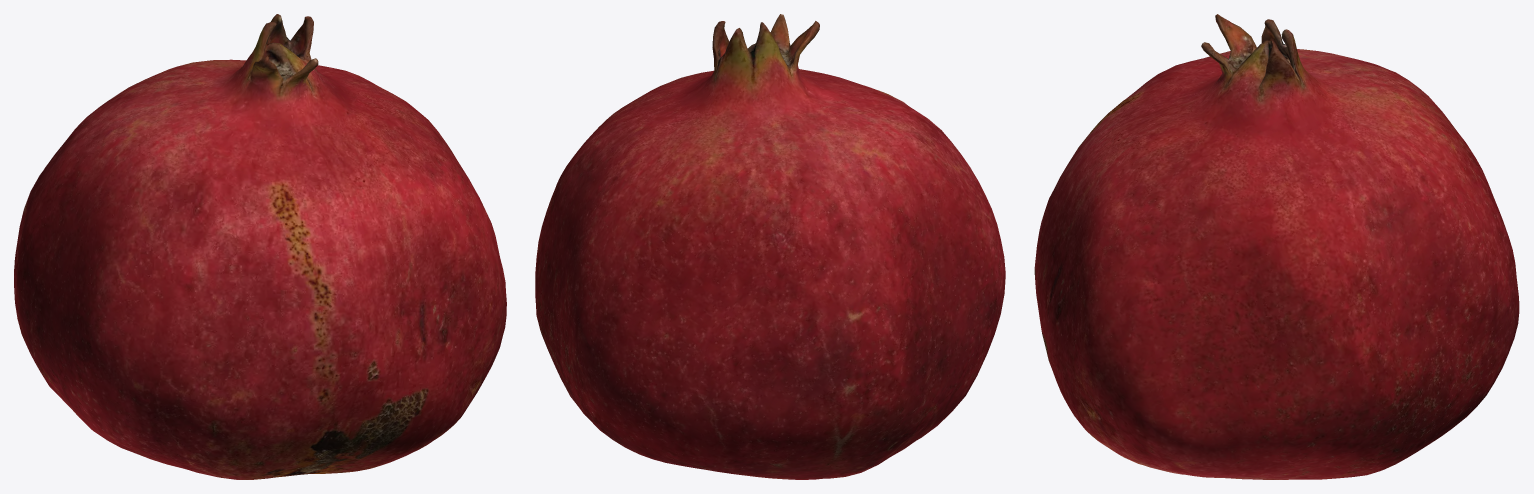
File: 静物_水果_pomegranate_fruit_opt.glb
3 views of the same model, side by side, from view 1: azimuth 30°, elevation 25°; view 2: azimuth 150°, elevation 25°; view 3: azimuth 270°, elevation 25° (orthographic). The views are drawn at different scales.
Parts seen in each view (by area): view 1: Object_4; view 2: Object_4; view 3: Object_4.
Part boxes in pixels (bbox=[...]): Object_4: bbox=[14, 14, 506, 479]; Object_4: bbox=[535, 14, 1005, 479]; Object_4: bbox=[1034, 14, 1519, 479].
Size of the model in its own units: 0.1379 by 0.1373 by 0.1396.
1 material, 1 textured.
